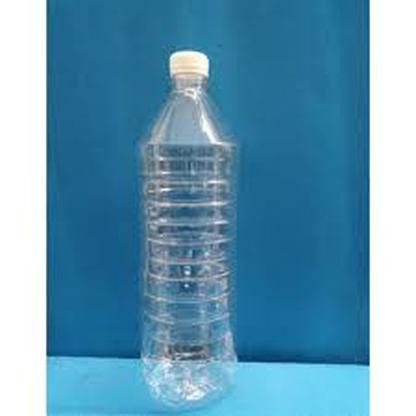plastic bottle: (137, 50, 238, 403)
